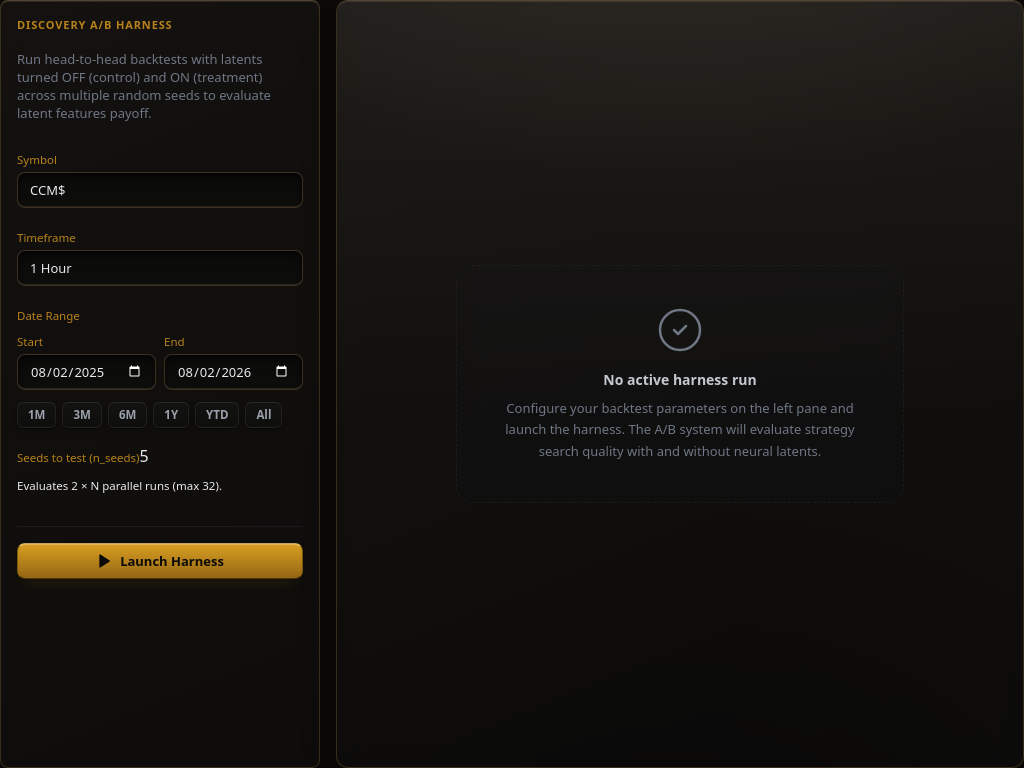
DiscoveryAbPanel › renders the failed job error state instead of loading or empty
Replace the text in the field labelled "Symbol" with "FAIL" at coordinates (160, 190), box left=17, top=172, right=303, bottom=208
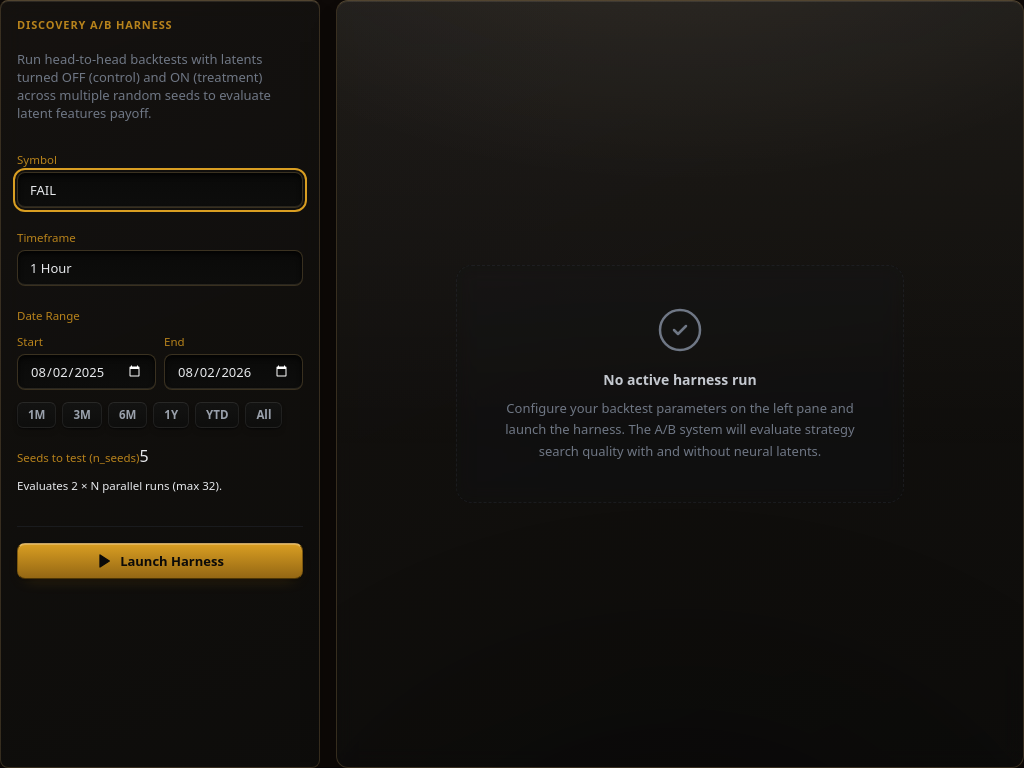
Click the button with test id "ab-submit-btn".
click(160, 560)  # box left=17, top=542, right=303, bottom=578
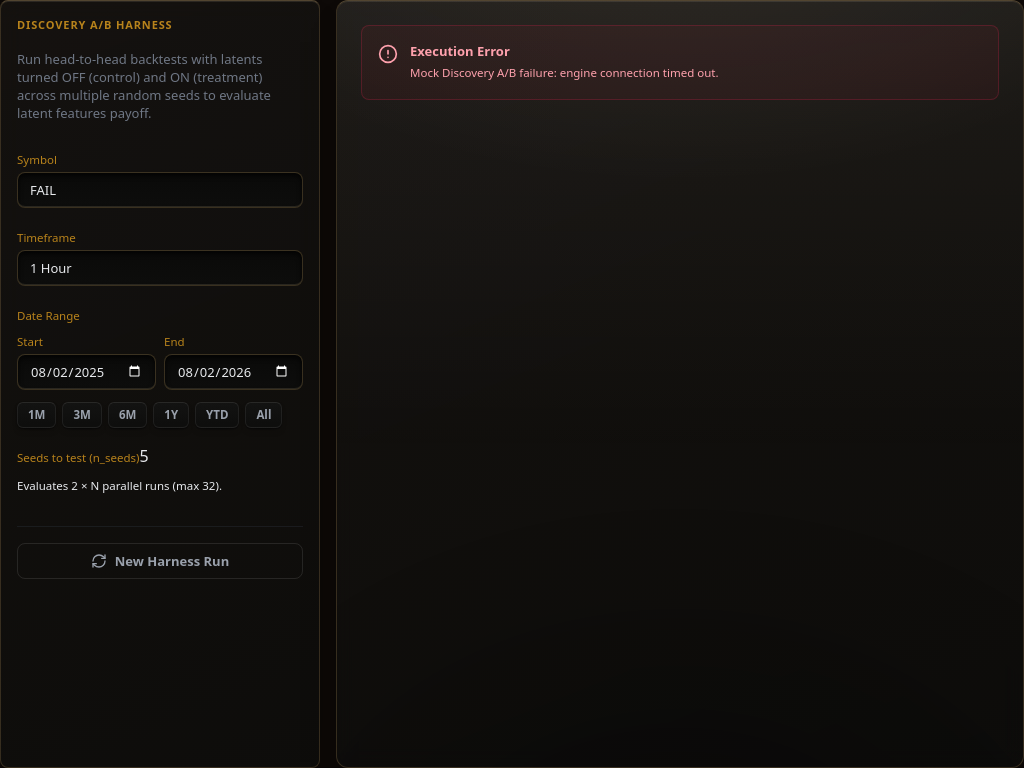
Now the element with test id "ab-error-state" is shown, box left=361, top=25, right=999, bottom=100
Now the element with test id "ab-error-state" shows "Mock Discovery A/B failure", box left=410, top=65, right=718, bottom=80
Now the element with test id "ab-empty-state" is gone
